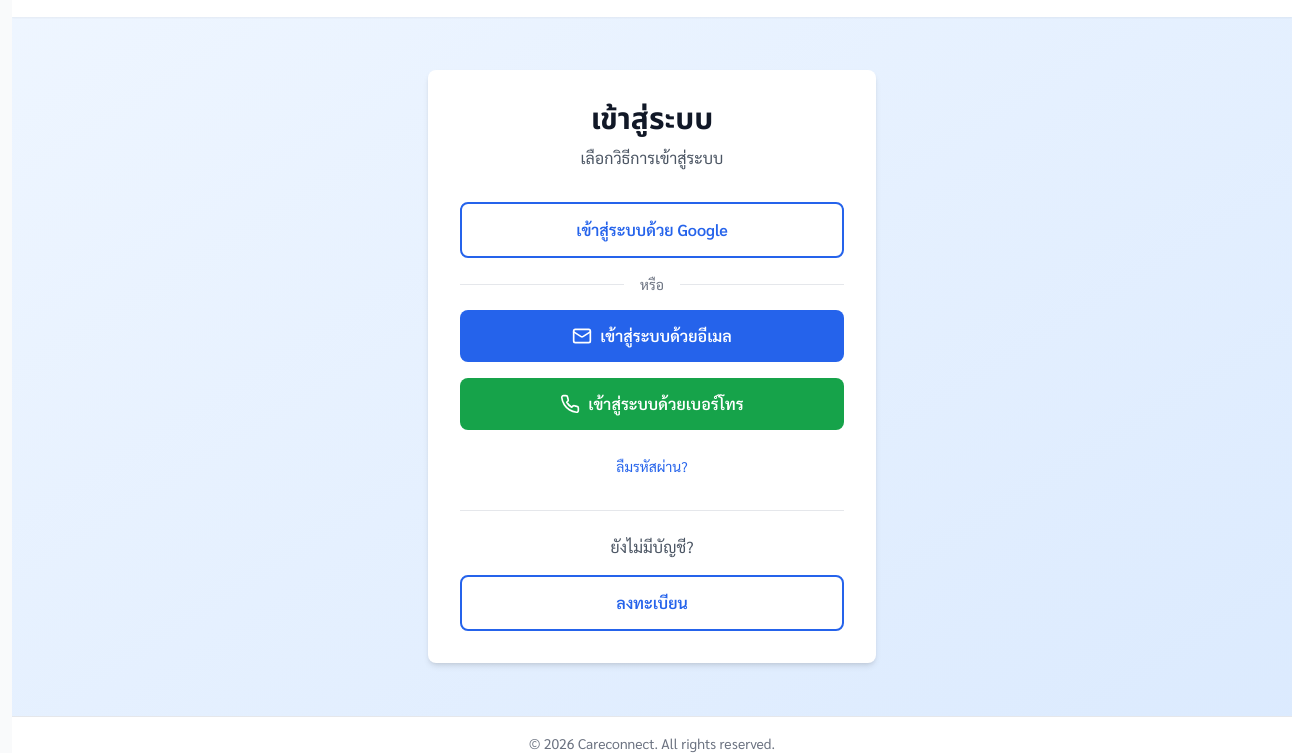
Auth entry navigation › navigates to login methods and forgot password
The image size is (1292, 753).
Click the button "เข้าสู่ระบบด้วยอีเมล": (652, 336) [460,310,844,362]
(page scrolled)
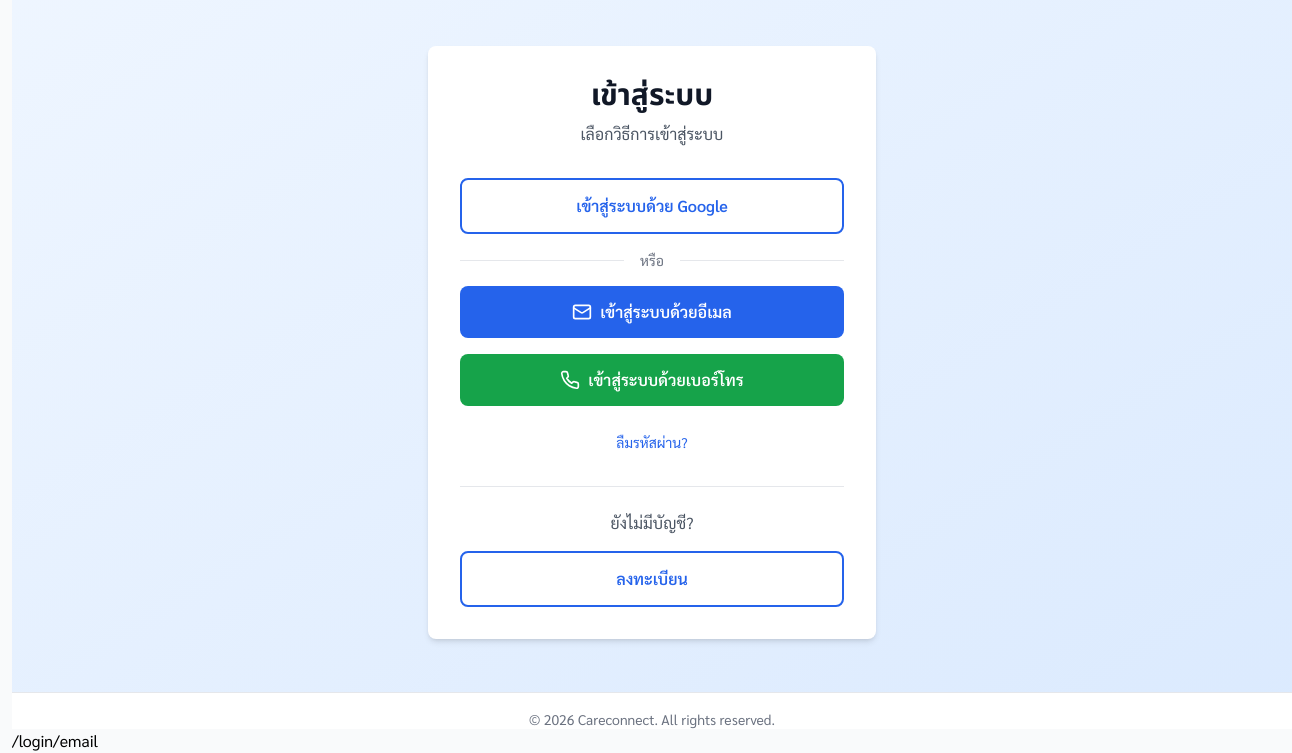
expect the text with test id "location" reads "/login/email": met, box [12,730,98,751]
